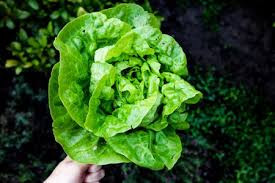lettuce: (60, 22, 176, 153)
